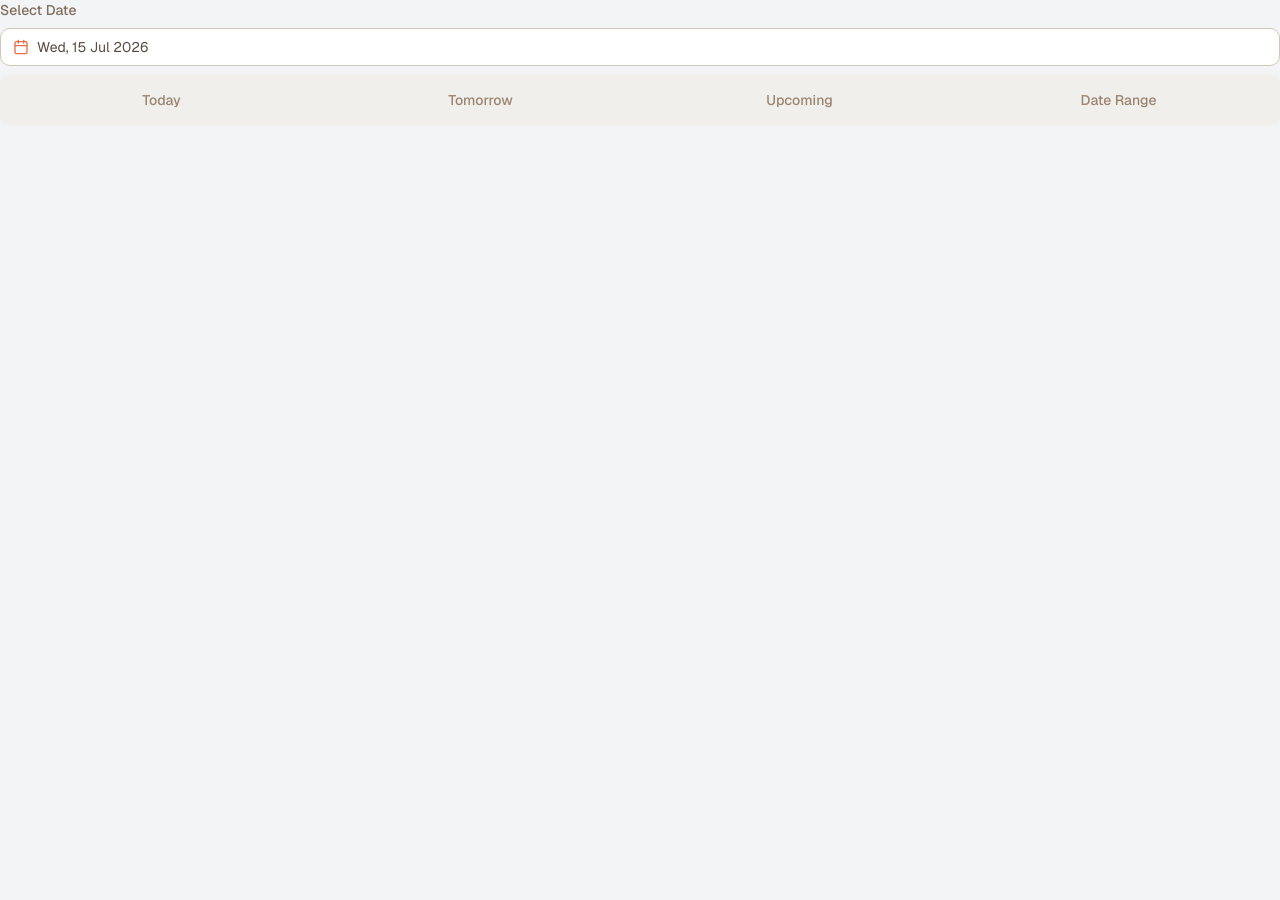
Scenario: DateFilter › shows the selected date and opens the calendar on click
Click the button with aria-label "select date".
click(93, 47)  # box [0,28,1279,66]
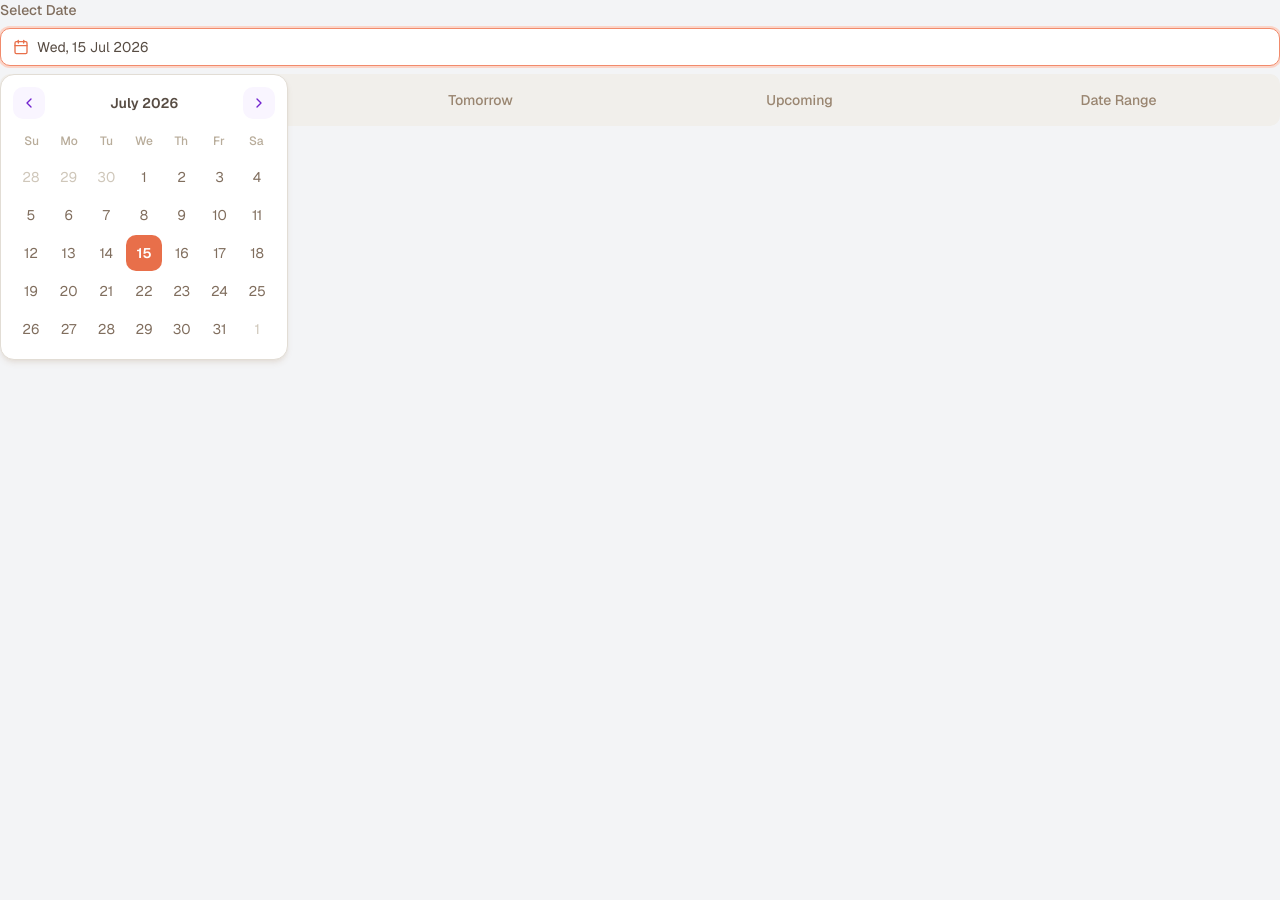
Now the text "July 2026" is shown, box [110,93,178,113]
